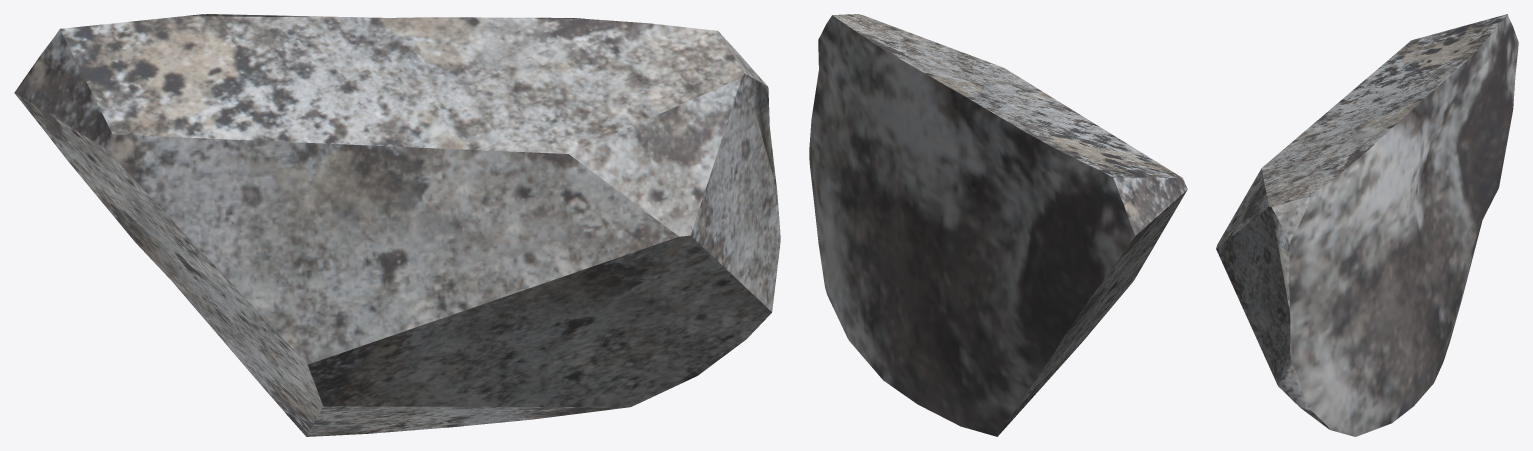
File: Asteroid_Large_001_02_006_03_001.fbx
3 renders of one model, left to right at view 1: azimuth 30°, elevation 25°; view 2: azimuth 150°, elevation 25°; view 3: azimuth 270°, elevation 25°, orthographic. The views are drawn at different scales.
Parts seen in each view (by area): view 1: Asteroid_Large_001_02_006_03_001; view 2: Asteroid_Large_001_02_006_03_001; view 3: Asteroid_Large_001_02_006_03_001.
Part boxes in pixels (x1,y1,x2,y2): Asteroid_Large_001_02_006_03_001: [14, 14, 780, 436]; Asteroid_Large_001_02_006_03_001: [809, 14, 1187, 436]; Asteroid_Large_001_02_006_03_001: [1216, 14, 1518, 436].
Size of the model in its own units: 13.93 by 9.59 by 9.14.
